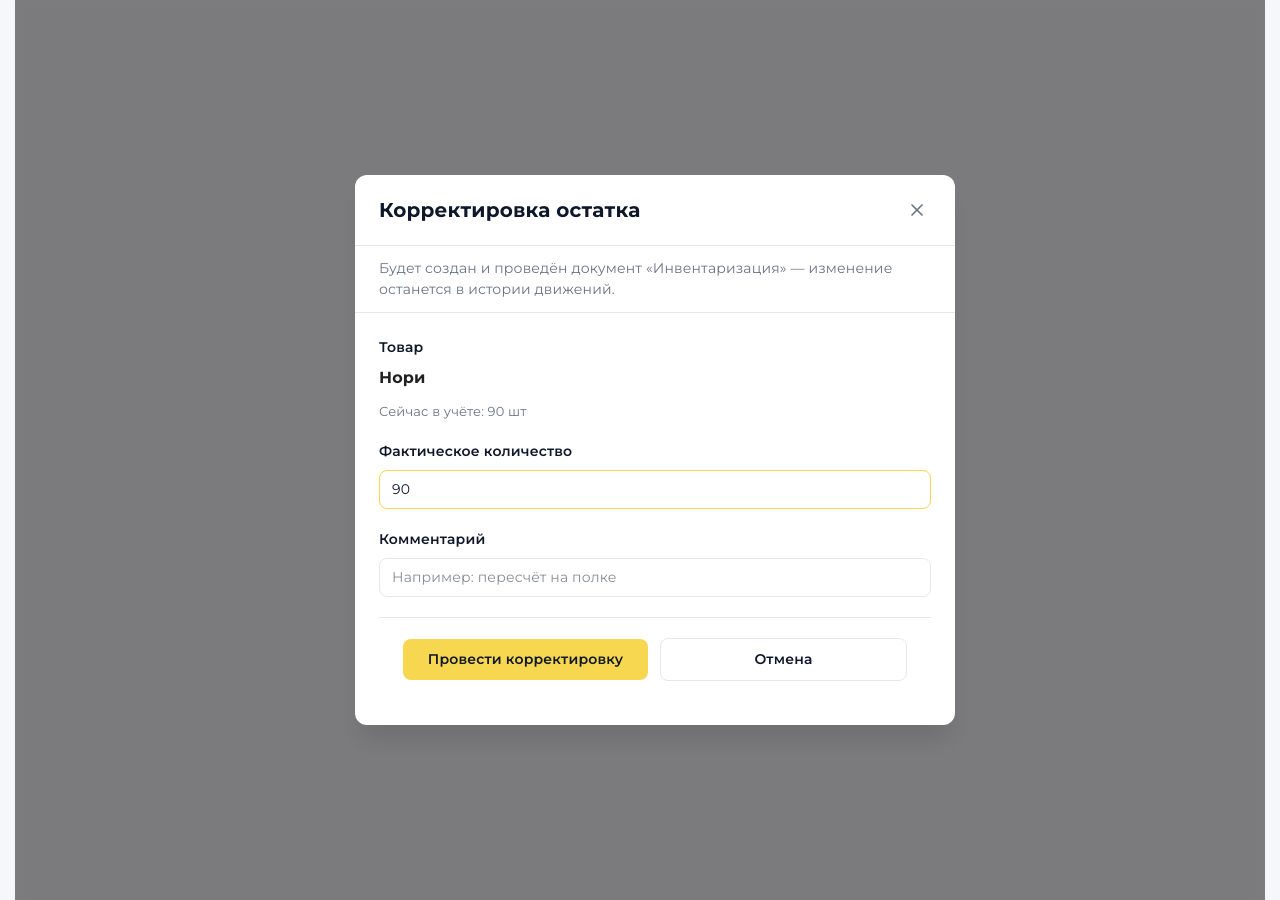
Test: StockAdjustmentModal › отрицательное количество не отправляется
Step 1. Replace the text in the field labelled "Фактическое количество" with "-1" → {"x": 655, "y": 490}, box left=379, top=470, right=931, bottom=509
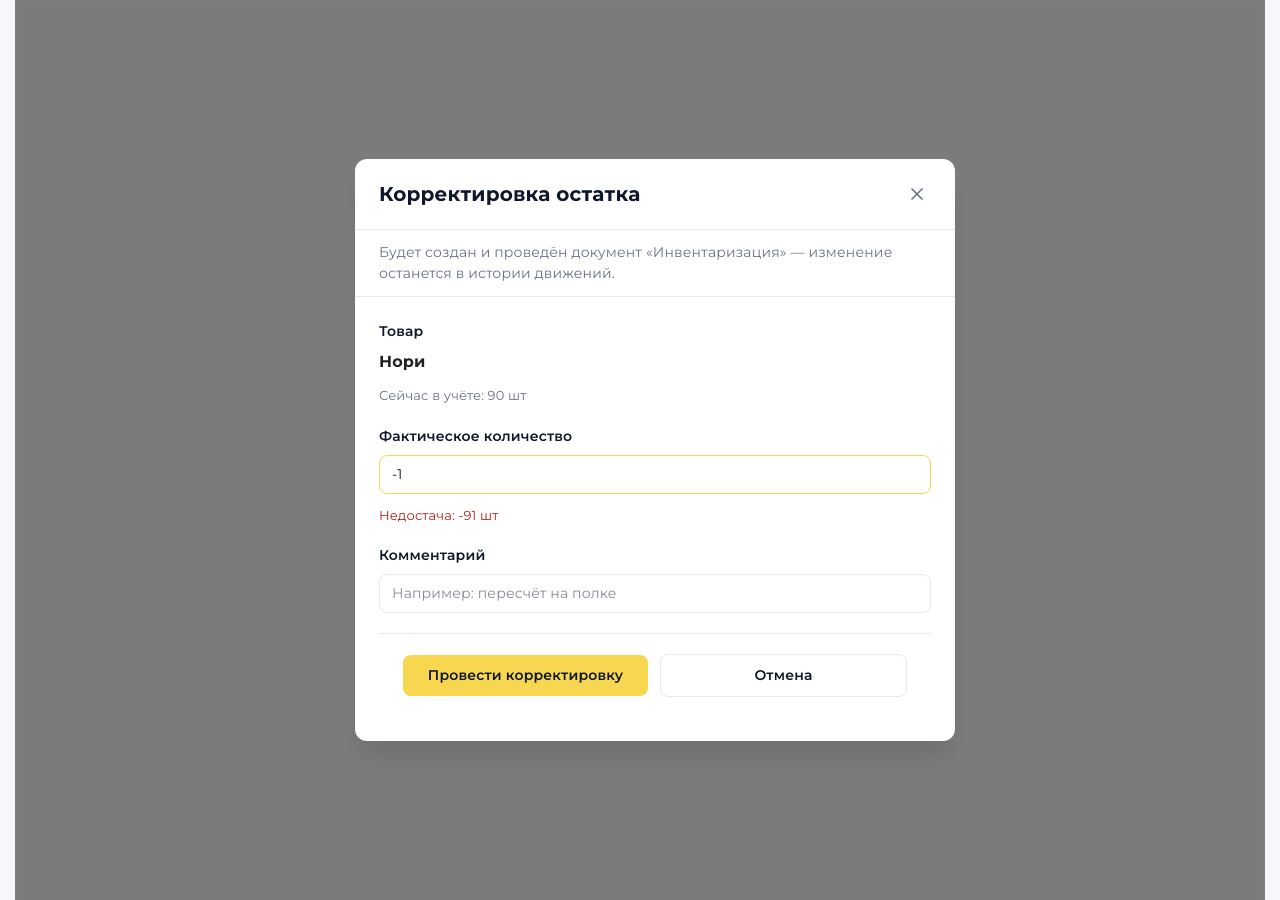
Step 2. Click the button "Провести корректировку" → {"x": 526, "y": 676}, box left=403, top=655, right=648, bottom=696
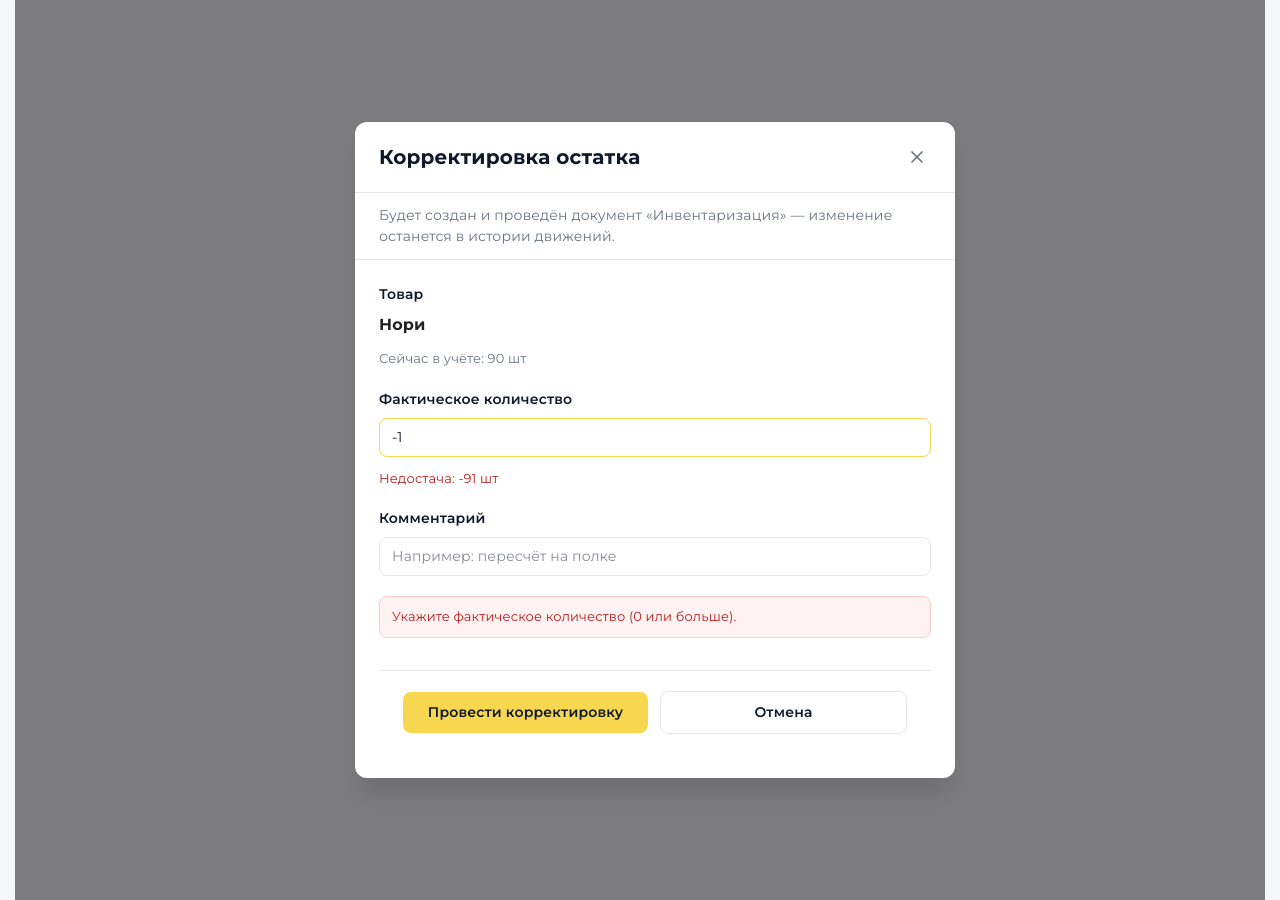
expect the message shows "0 или больше": met, box left=392, top=608, right=736, bottom=624
